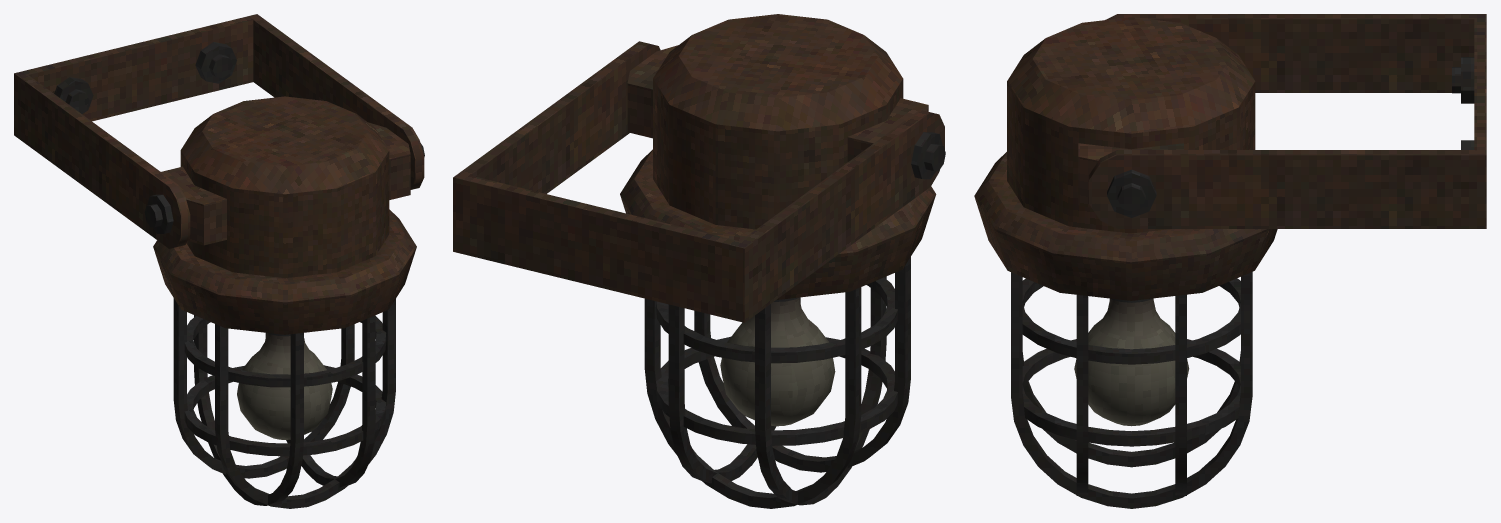
Rendered from lamp_mx_1_off.glb.
3 views of the same model, side by side, from view 1: azimuth 30°, elevation 25°; view 2: azimuth 150°, elevation 25°; view 3: azimuth 270°, elevation 25° (orthographic). The views are drawn at different scales.
Visible parts, largest first — view 1: lamp_mx_1_off; view 2: lamp_mx_1_off; view 3: lamp_mx_1_off.
Part boxes in pixels (box(x1,y1,x2,y2)): lamp_mx_1_off: box(14, 14, 424, 508); lamp_mx_1_off: box(453, 14, 945, 508); lamp_mx_1_off: box(974, 14, 1486, 508).
Size of the model in its own units: 0.2245 by 0.2865 by 0.3118.
3 materials, 3 textured.
